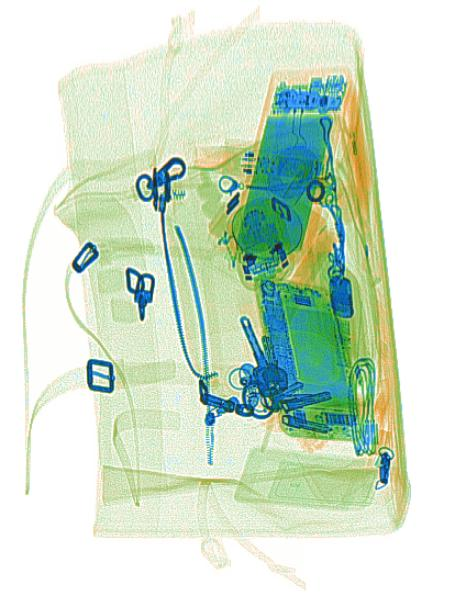USBFlashDisk: (329, 272, 354, 319)
